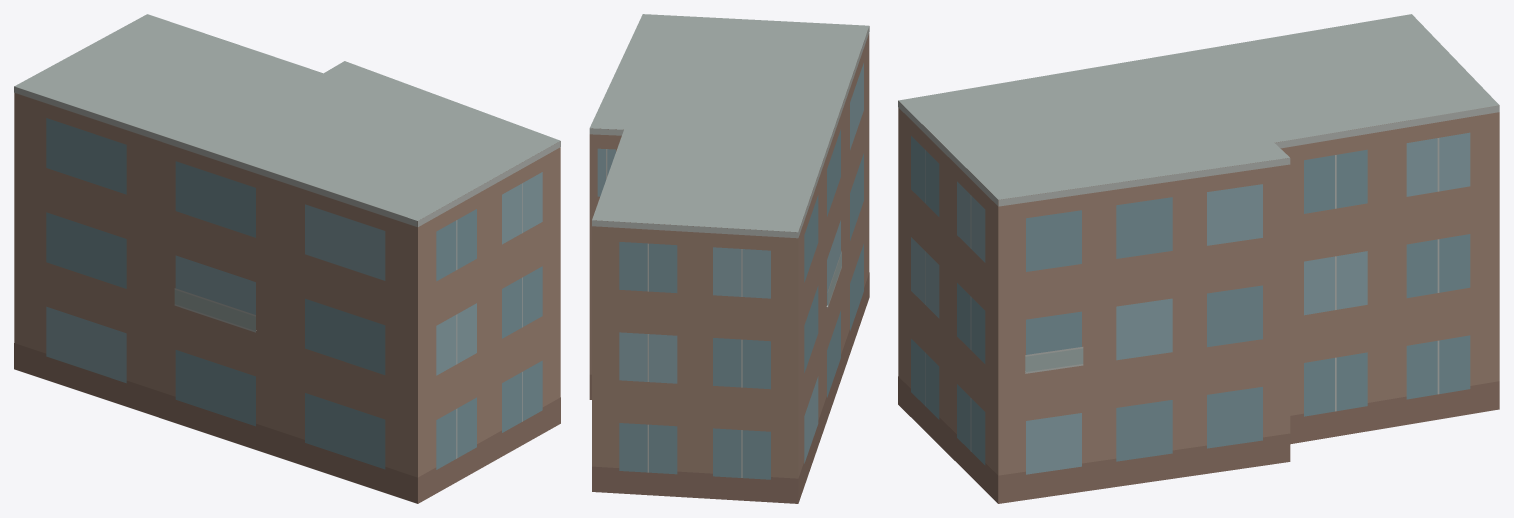
File: survey-upis-32548082.glb
The picture shows the model from 3 angles, left to right: view 1: azimuth 30°, elevation 25°; view 2: azimuth 150°, elevation 25°; view 3: azimuth 270°, elevation 25°; orthographic projection. The views are drawn at different scales.
Parts seen in each view (by area): view 1: survey-upis-32548082.tmp; view 2: survey-upis-32548082.tmp; view 3: survey-upis-32548082.tmp.
Boxes of the visible parts, x1,y1,x2,y2 form: survey-upis-32548082.tmp: (14, 14, 560, 503); survey-upis-32548082.tmp: (589, 14, 869, 503); survey-upis-32548082.tmp: (898, 14, 1499, 503).
Bounding box in the file's own units: 14.36 × 10.95 × 19.64.
